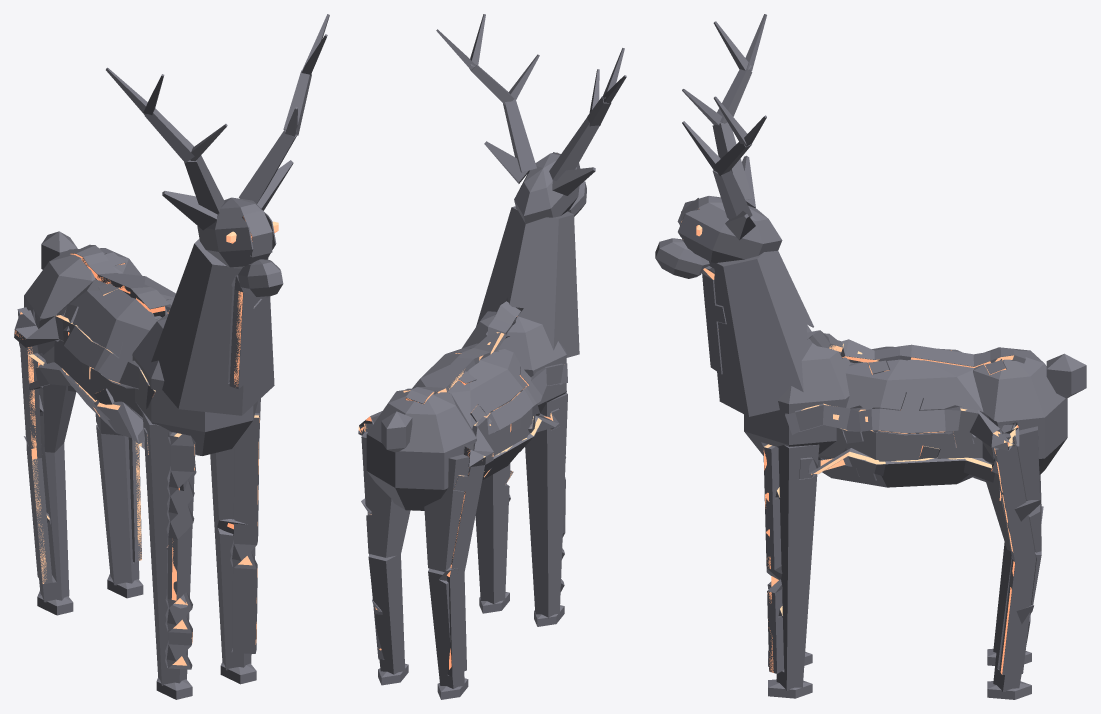
Rendered from figure_stag.glb.
The picture shows the model from 3 angles, left to right: view 1: azimuth 30°, elevation 25°; view 2: azimuth 150°, elevation 25°; view 3: azimuth 270°, elevation 25°; orthographic projection. The views are drawn at different scales.
Visible parts, largest first — view 1: figure_stag, plug_stag_00, plug_stag_01, plug_stag_07, plug_stag_03, plug_stag_05, plug_stag_09, plug_stag_08, plug_stag_02, plug_stag_10, glow_stag_03; view 2: figure_stag, plug_stag_03, plug_stag_07, plug_stag_08, plug_stag_05; view 3: figure_stag, plug_stag_06, plug_stag_02, plug_stag_00, plug_stag_08, plug_stag_04, plug_stag_09, glow_stag_04.
Boxes of the visible parts, x1,y1,x2,y2 form: figure_stag: (17, 14, 329, 699); plug_stag_00: (217, 413, 259, 653); plug_stag_01: (166, 432, 196, 669); plug_stag_07: (14, 304, 154, 408); plug_stag_03: (19, 342, 52, 584); plug_stag_05: (28, 353, 148, 454); plug_stag_09: (229, 275, 263, 388); plug_stag_08: (70, 244, 173, 317); plug_stag_02: (128, 437, 141, 562); plug_stag_10: (242, 210, 272, 257); glow_stag_03: (27, 347, 49, 583); figure_stag: (361, 14, 626, 699); plug_stag_03: (439, 465, 484, 677); plug_stag_07: (464, 363, 567, 467); plug_stag_08: (403, 301, 520, 404); plug_stag_05: (484, 408, 560, 477); figure_stag: (655, 14, 1086, 699); plug_stag_06: (785, 392, 1019, 450); plug_stag_02: (991, 445, 1040, 674); plug_stag_00: (763, 444, 784, 673); plug_stag_08: (807, 330, 1025, 374); plug_stag_04: (799, 446, 1003, 500); plug_stag_09: (702, 266, 726, 374); glow_stag_04: (811, 445, 1001, 500).
Size of the model in its own units: 0.768 by 2.16 by 1.36.
